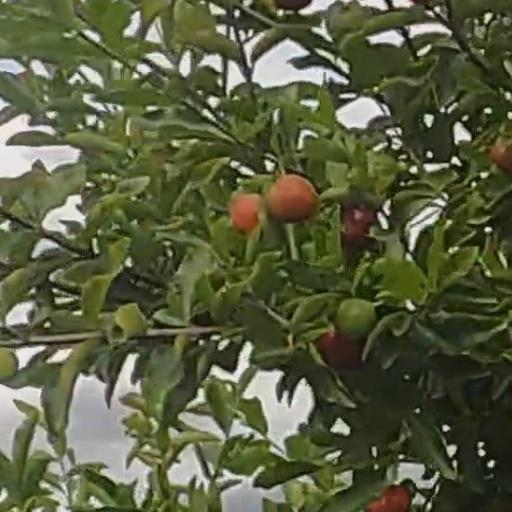acerola: (268, 177, 315, 220), (316, 333, 362, 366), (340, 207, 374, 251), (340, 301, 372, 339), (373, 488, 414, 510), (234, 194, 255, 233)
